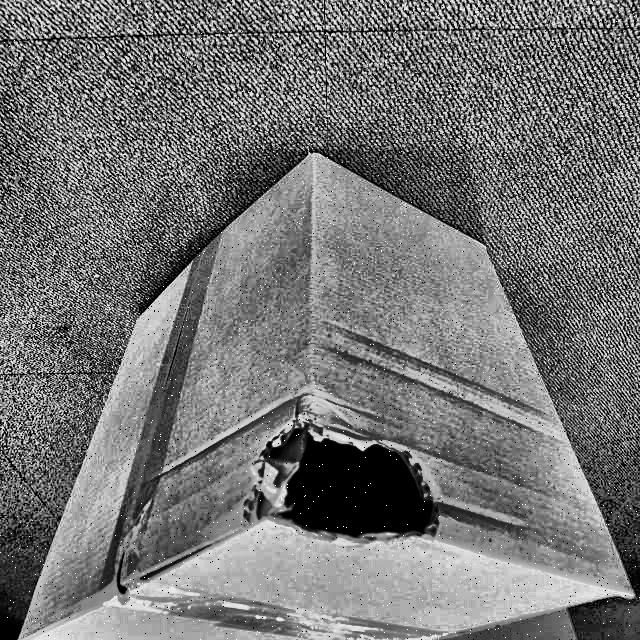box: (13, 144, 640, 640)
hole: (245, 418, 446, 546)
